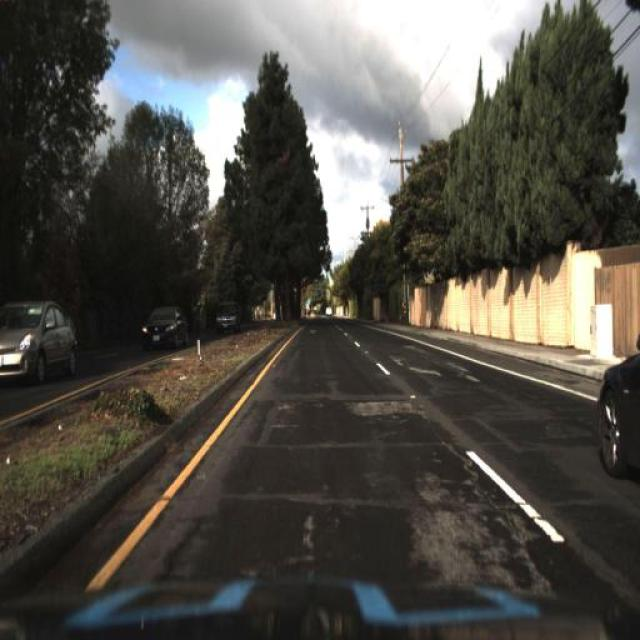car: (0, 300, 81, 388), (598, 324, 640, 484), (138, 302, 192, 354), (144, 305, 190, 346), (214, 299, 240, 331)
